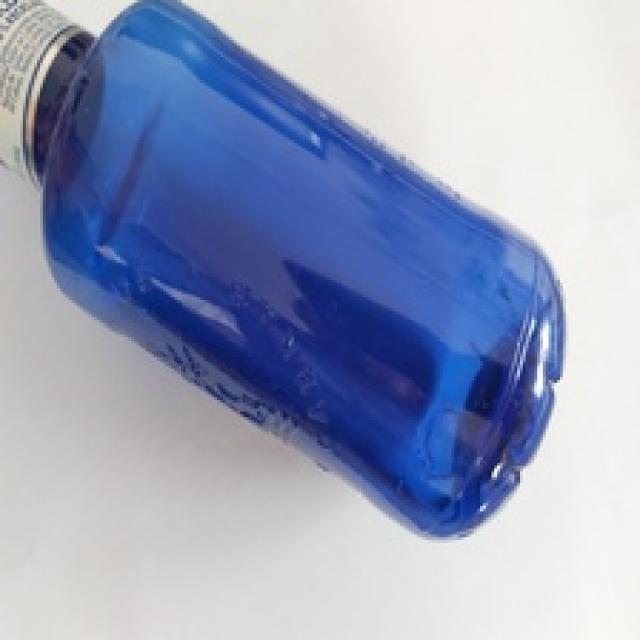Plastic: (0, 0, 572, 541)
